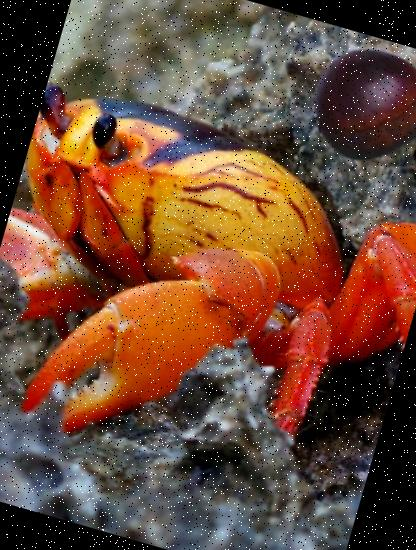Chestnut: (298, 26, 416, 177)
